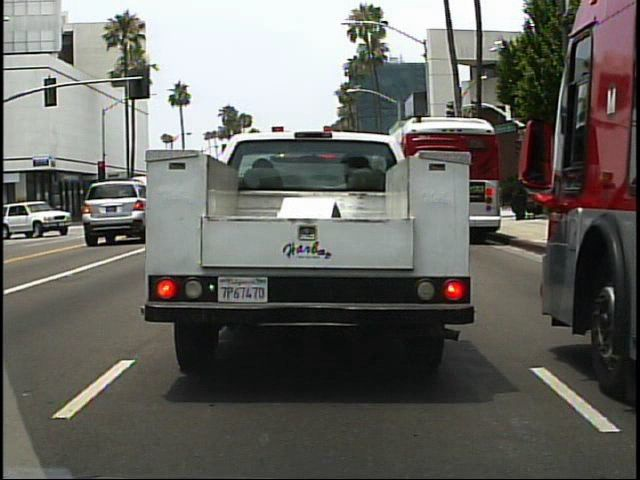person: (511, 186, 531, 221), (18, 199, 37, 234)
